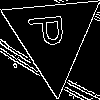P: (27, 11, 72, 49)
